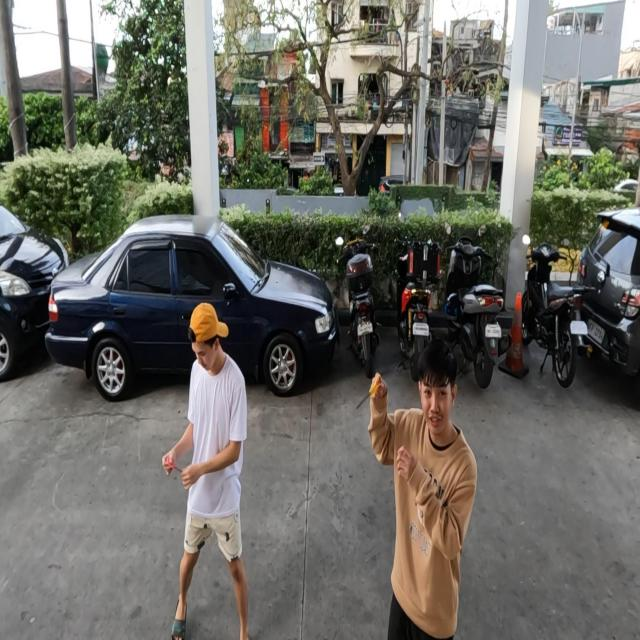scissor: (356, 373, 384, 410)
